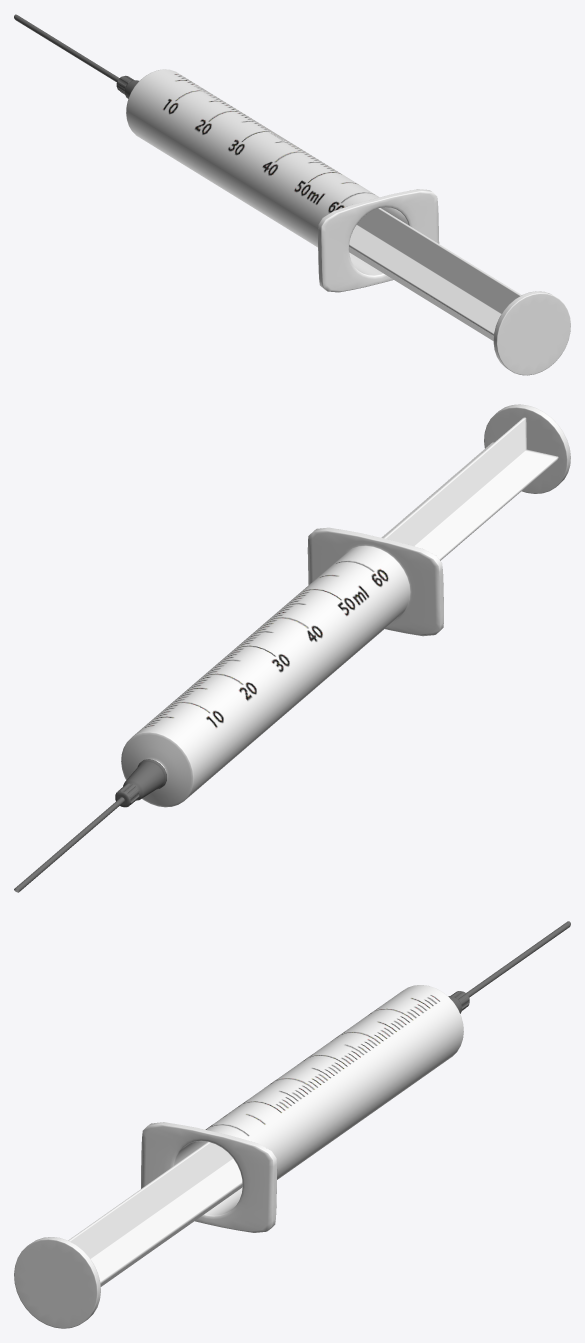
File: seringa.FBX
3 renders of one model, top to bottom at view 1: azimuth 30°, elevation 25°; view 2: azimuth 150°, elevation 25°; view 3: azimuth 330°, elevation 25°, orthographic. The views are drawn at different scales.
Visible parts, largest first — view 1: Archmodels70_049_094, Archmodels70_049_095, Archmodels70_049_093; view 2: Archmodels70_049_094, Archmodels70_049_095, Archmodels70_049_097, Archmodels70_049_093; view 3: Archmodels70_049_094, Archmodels70_049_095, Archmodels70_049_093.
Boxes of the visible parts, x1,y1,x2,y2 form: Archmodels70_049_094: (126, 69, 439, 292); Archmodels70_049_095: (349, 208, 570, 375); Archmodels70_049_093: (14, 14, 119, 82); Archmodels70_049_094: (121, 527, 443, 807); Archmodels70_049_095: (381, 404, 570, 560); Archmodels70_049_097: (115, 759, 166, 807); Archmodels70_049_093: (14, 797, 124, 892); Archmodels70_049_094: (141, 985, 463, 1232); Archmodels70_049_095: (14, 1142, 242, 1328); Archmodels70_049_093: (466, 921, 570, 997).
Bounding box in the file's own units: 0.0295 × 0.0241 × 0.2122.
Materials: 4 (1 with a texture image).
